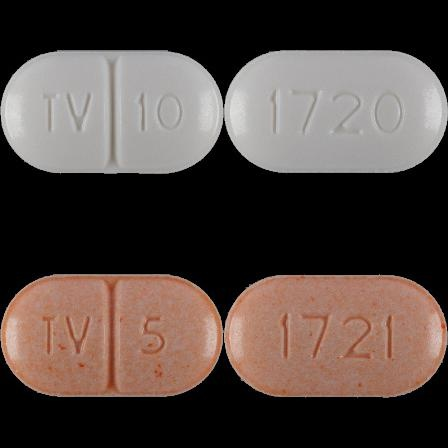0093-1720: (0, 0, 224, 224)
